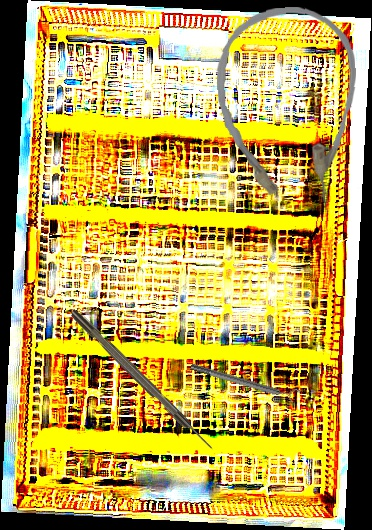Cannula: (213, 3, 363, 212)
Fixation Ring: (188, 357, 302, 407)
Hook Surgical: (68, 306, 217, 455)
